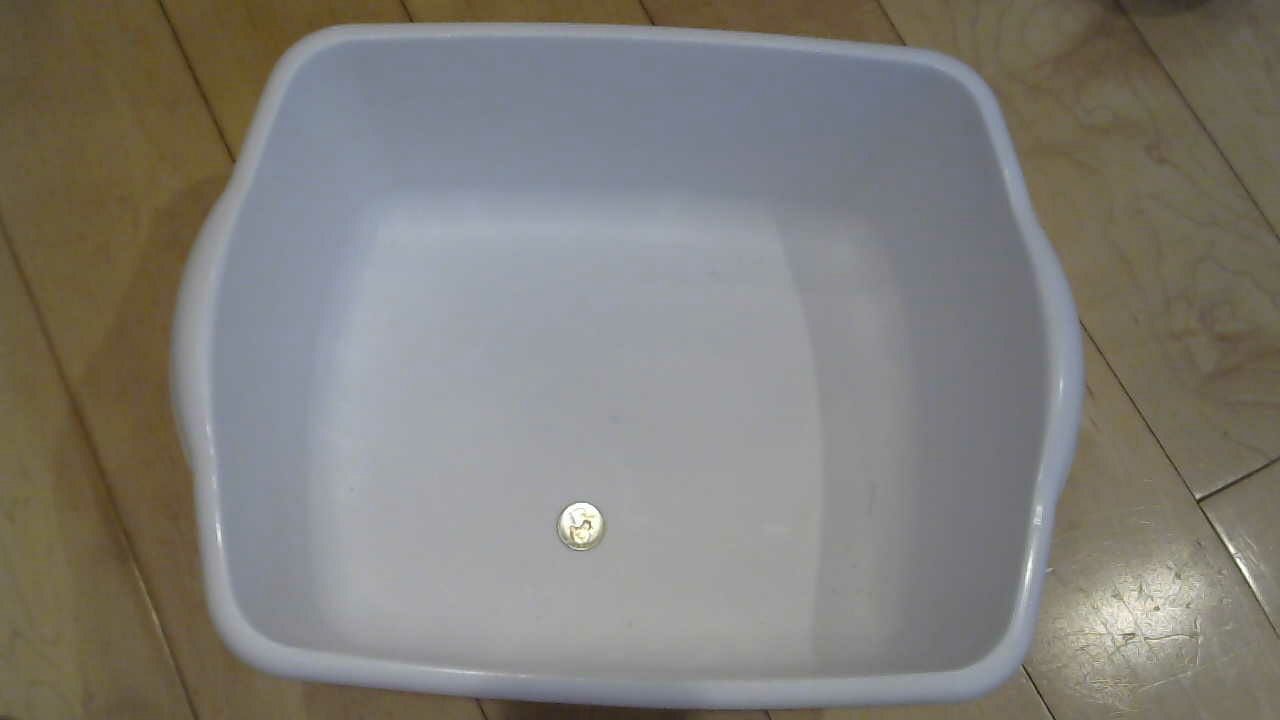coin: (552, 502, 616, 561)
